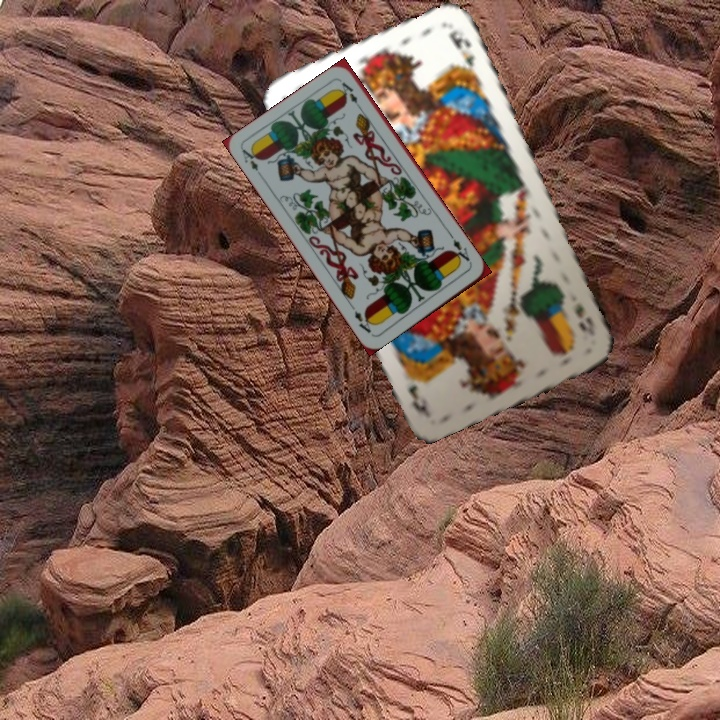EA: (238, 144, 266, 181), (446, 231, 474, 267)
EK: (570, 299, 598, 338)
